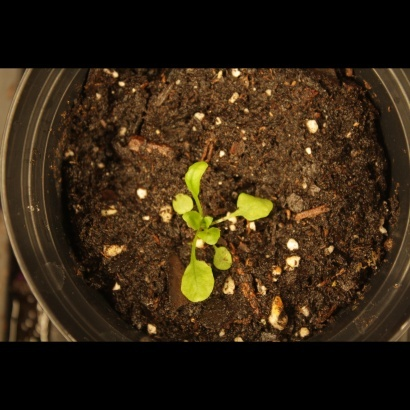leaf: (177, 252, 217, 305), (232, 187, 277, 229), (178, 157, 215, 200), (211, 245, 241, 273), (165, 191, 196, 216), (196, 227, 225, 250), (181, 208, 204, 231)
